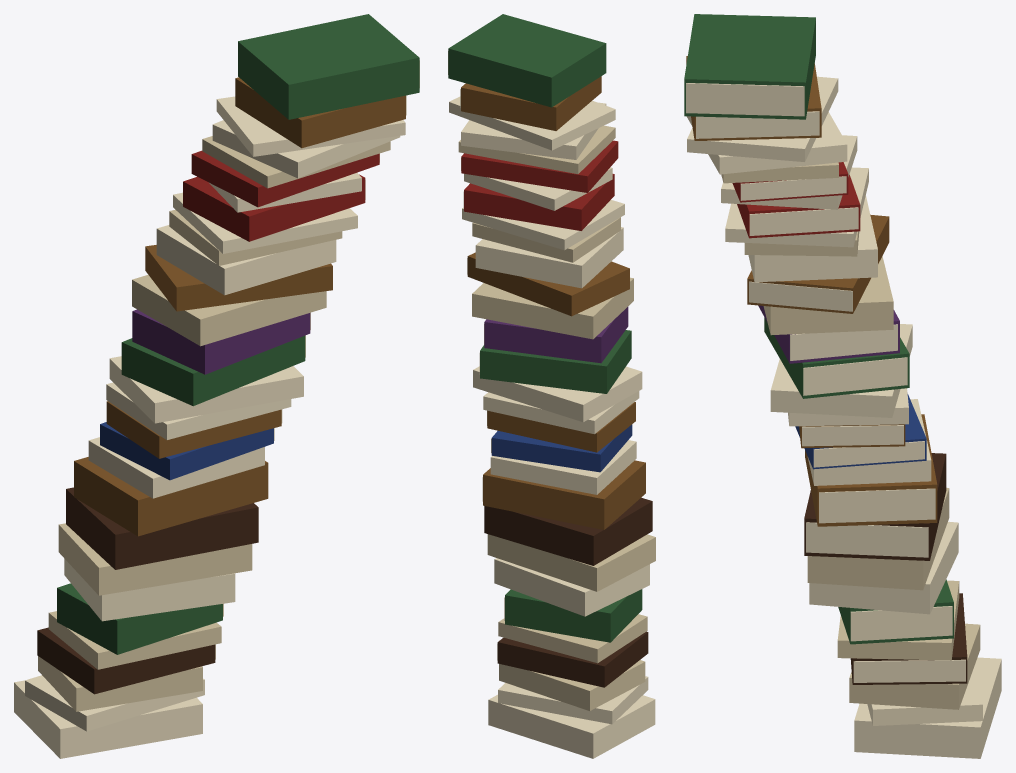
Rendered from paper_tower_a.glb.
The picture shows the model from 3 angles, left to right: view 1: azimuth 30°, elevation 25°; view 2: azimuth 150°, elevation 25°; view 3: azimuth 270°, elevation 25°; orthographic projection. The views are drawn at different scales.
Parts seen in each view (by area): view 1: paper_tower_a2; view 2: paper_tower_a2; view 3: paper_tower_a2.
Part boxes in pixels (box(x1,y1,x2,y2)): paper_tower_a2: box(14, 14, 419, 758); paper_tower_a2: box(448, 14, 655, 758); paper_tower_a2: box(684, 14, 1001, 758).
Bounding box in the file's own units: 1.54 × 3.74 × 1.45.
